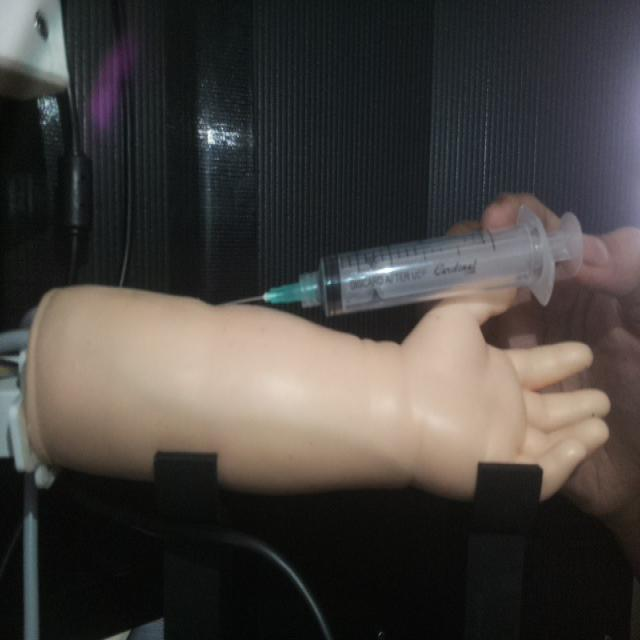Outside: (220, 192, 588, 318)
